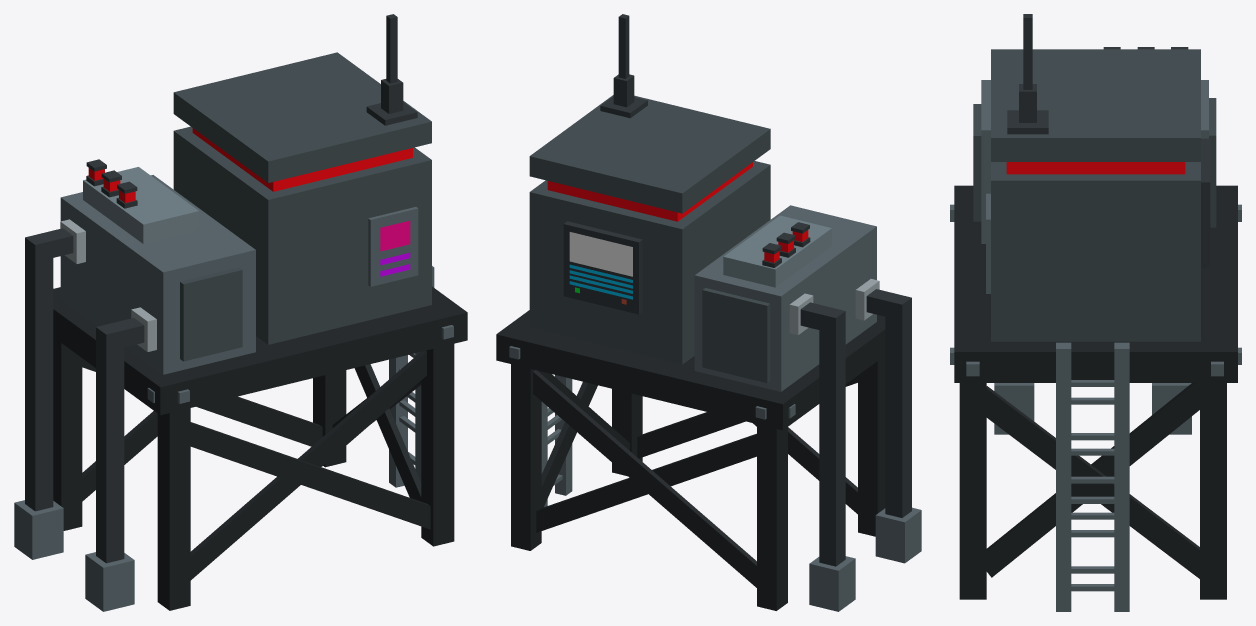
Rendered from Machine 04.FBX.
The picture shows the model from 3 angles, left to right: view 1: azimuth 30°, elevation 25°; view 2: azimuth 150°, elevation 25°; view 3: azimuth 270°, elevation 25°; orthographic projection. The views are drawn at different scales.
Visible parts, largest first — view 1: Machine 04; view 2: Machine 04; view 3: Machine 04.
Boxes of the visible parts, x1,y1,x2,y2 form: Machine 04: (14, 14, 467, 611); Machine 04: (496, 14, 921, 611); Machine 04: (950, 14, 1241, 611).
Size of the model in its own units: 588 by 800 by 374.
